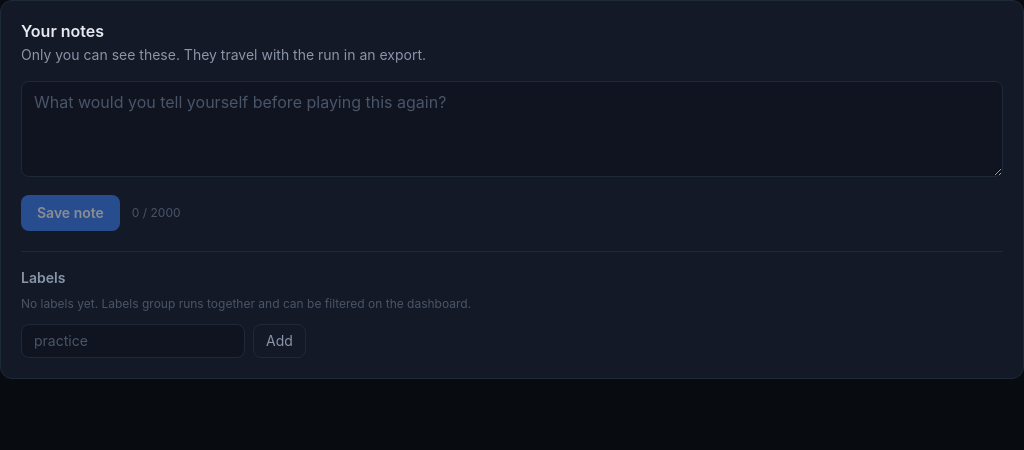
RunAnnotations — labels › reports a refused label without adding it
The width and height of the screenshot is (1024, 450).
Step 1. Type "!!!" into the field named "New label" → (133, 341), box [21, 324, 245, 358]
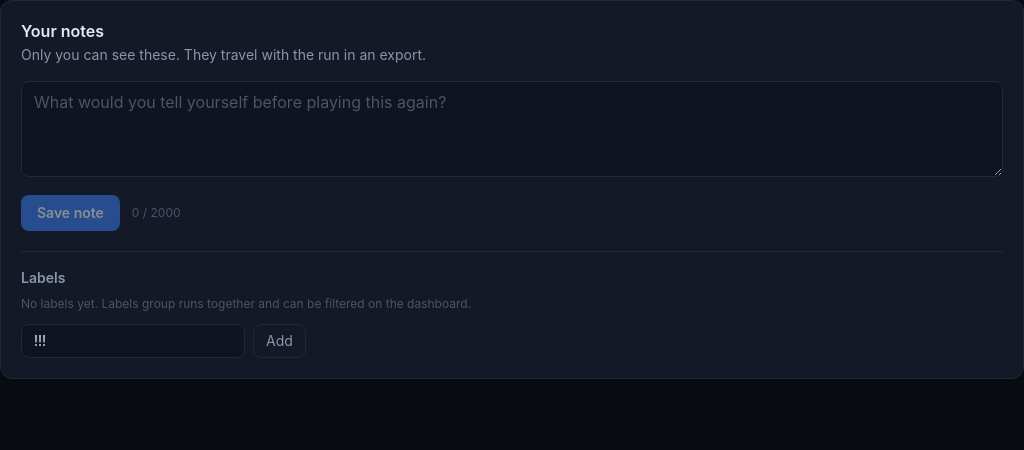
Step 2. Click the button "Add" → (279, 341), box [253, 324, 306, 358]
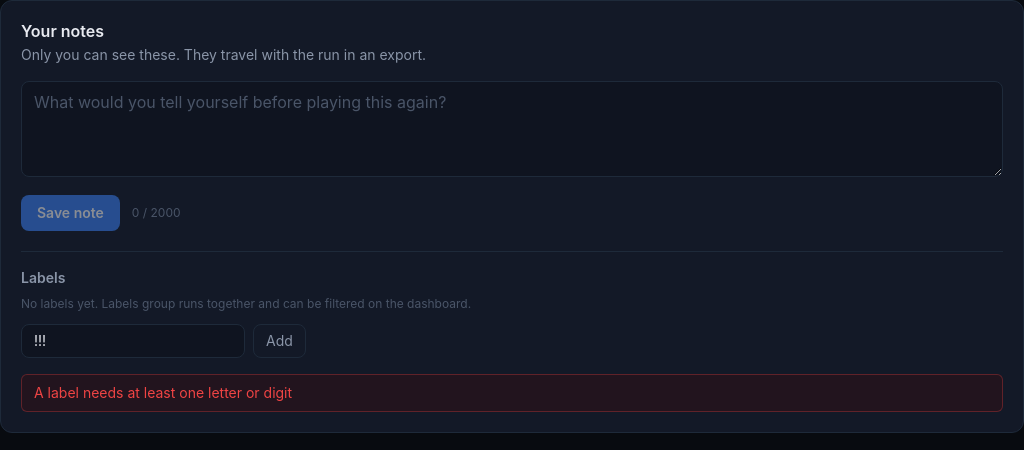
Expected: the text "No labels yet" is shown, [21, 296, 471, 311]
Expected: the text "A label needs at least one letter or digit" is shown, [21, 374, 1003, 412]
